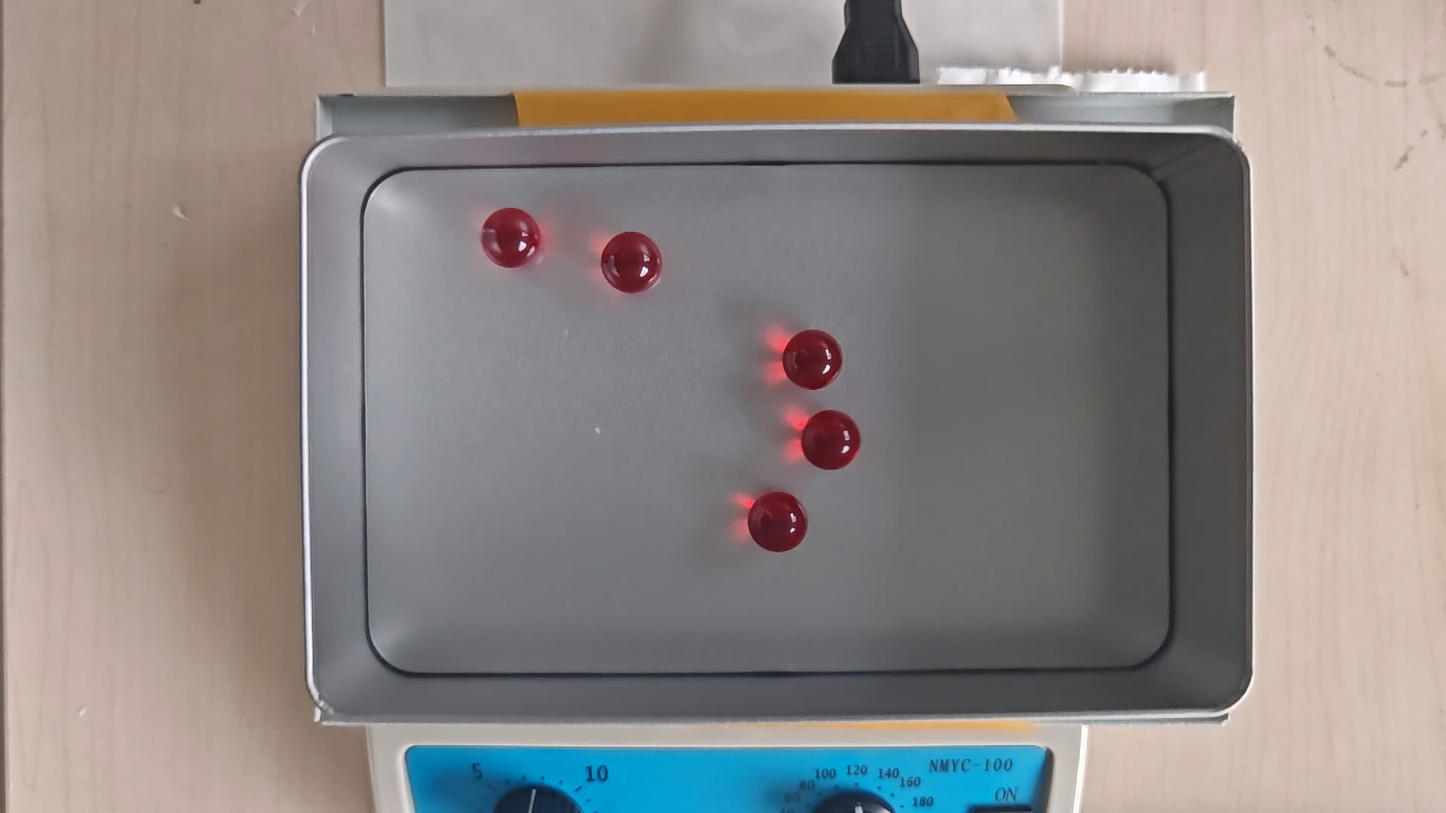ball: (603, 230, 664, 296), (749, 491, 809, 553), (480, 208, 542, 267), (784, 328, 841, 391), (804, 410, 861, 469)
container: (359, 163, 1171, 677)
